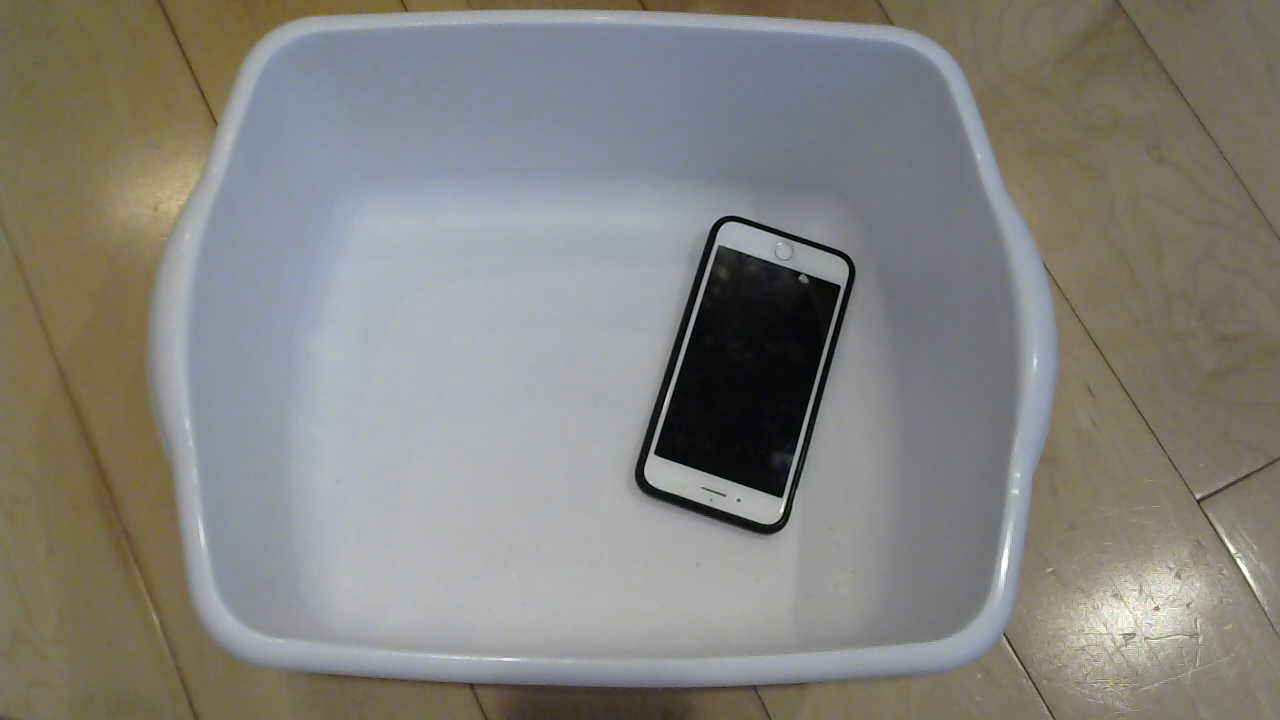phone: (609, 208, 888, 542)
